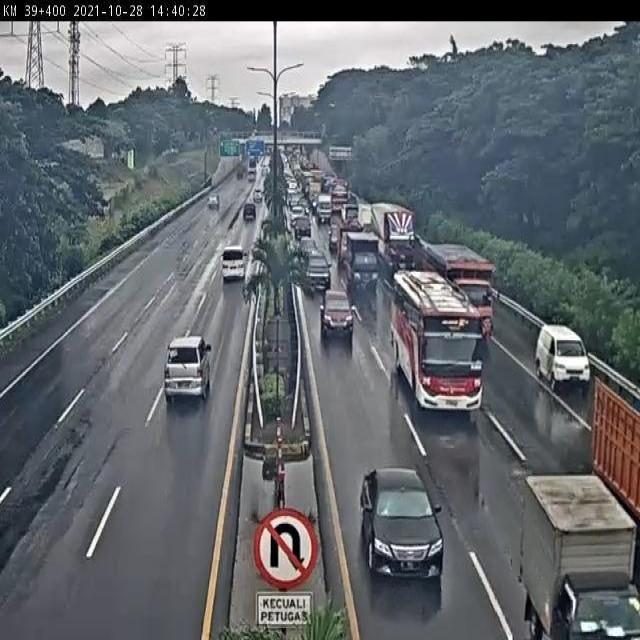Bus: (389, 267, 487, 411), (330, 180, 350, 217), (342, 195, 360, 225), (316, 193, 333, 224)
Car: (359, 468, 445, 582), (320, 289, 354, 344), (304, 249, 330, 291), (292, 213, 312, 240), (288, 192, 304, 216), (243, 202, 256, 222), (208, 194, 220, 210), (282, 166, 292, 185), (287, 180, 298, 194), (254, 188, 263, 203)
Truck: (517, 470, 634, 640), (420, 244, 496, 336), (369, 204, 416, 277), (341, 231, 380, 305)
Van: (536, 326, 592, 394), (163, 333, 212, 400), (221, 244, 246, 280)
